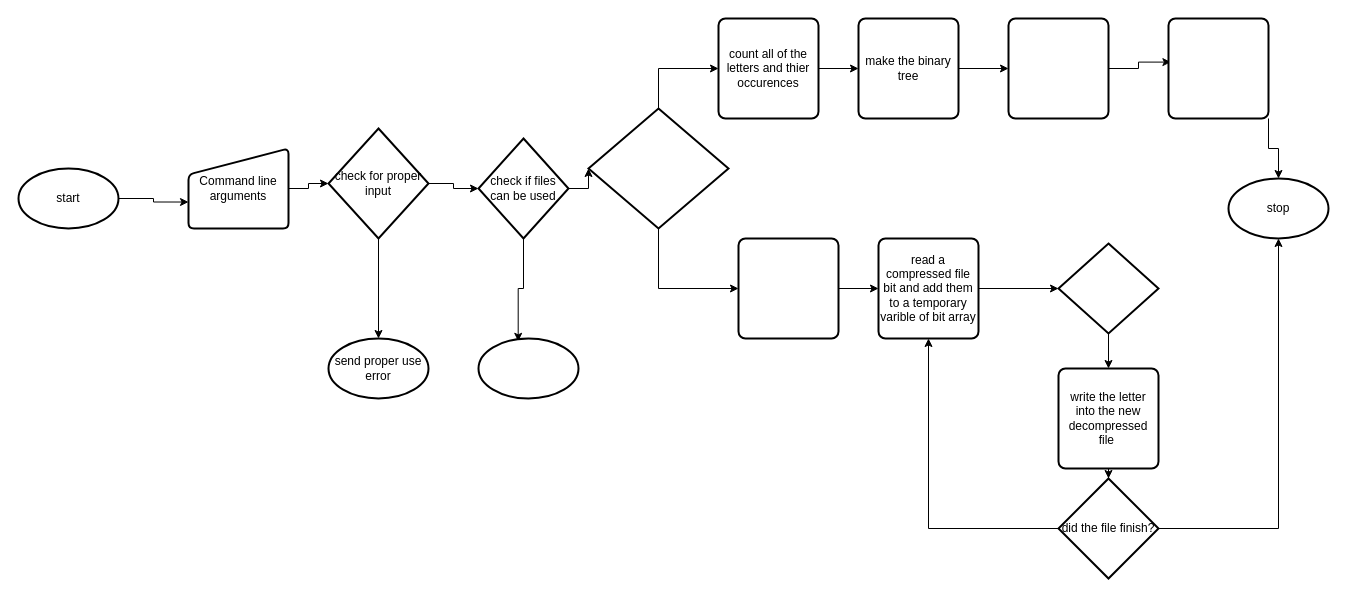
The diagram is 1346 pixels wide and 596 high, and some of its shapes have lost their labels. The shapes that lost their labels are listed below. From the top down, each one's centre as x and y in pixels, then its label:
point (1058, 68): write the key info into the given key file
point (1218, 68): write into the compressed file in bits
point (658, 168): check if compress or decompress
point (788, 288): open the key file
point (1108, 288): does temprary varible match a letter in the key file?
point (528, 368): send file error msg
